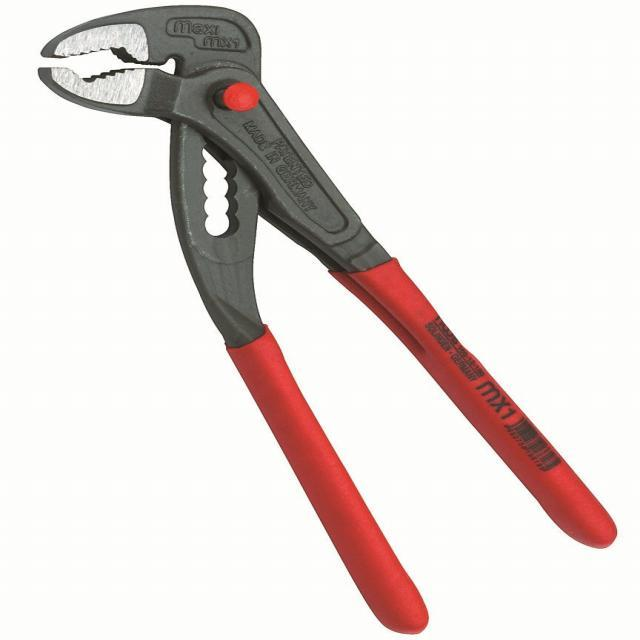pliers: (27, 0, 618, 638)
